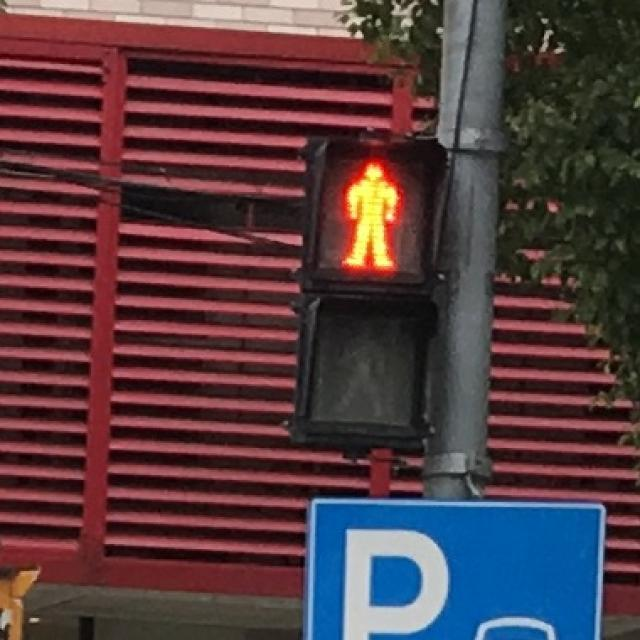red_light: (323, 148, 416, 278)
